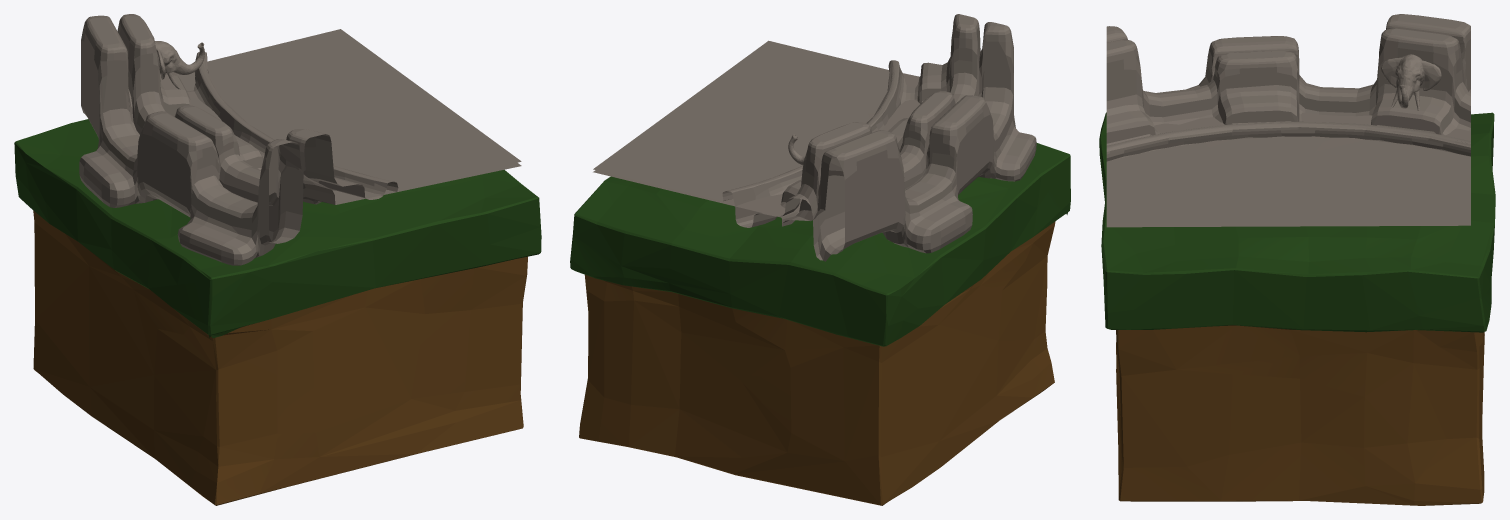
The picture shows the model from 3 angles, left to right: view 1: azimuth 30°, elevation 25°; view 2: azimuth 150°, elevation 25°; view 3: azimuth 270°, elevation 25°; orthographic projection. The views are drawn at different scales.
Visible parts, largest first — view 1: hill.002; view 2: hill.002; view 3: hill.002.
Boxes of the visible parts, left/top/right/bottom form: hill.002: left=14, top=14, right=541, bottom=505; hill.002: left=570, top=14, right=1070, bottom=505; hill.002: left=1099, top=14, right=1495, bottom=505.
Bounding box in the file's own units: 1.07 × 1.07 × 1.09.
